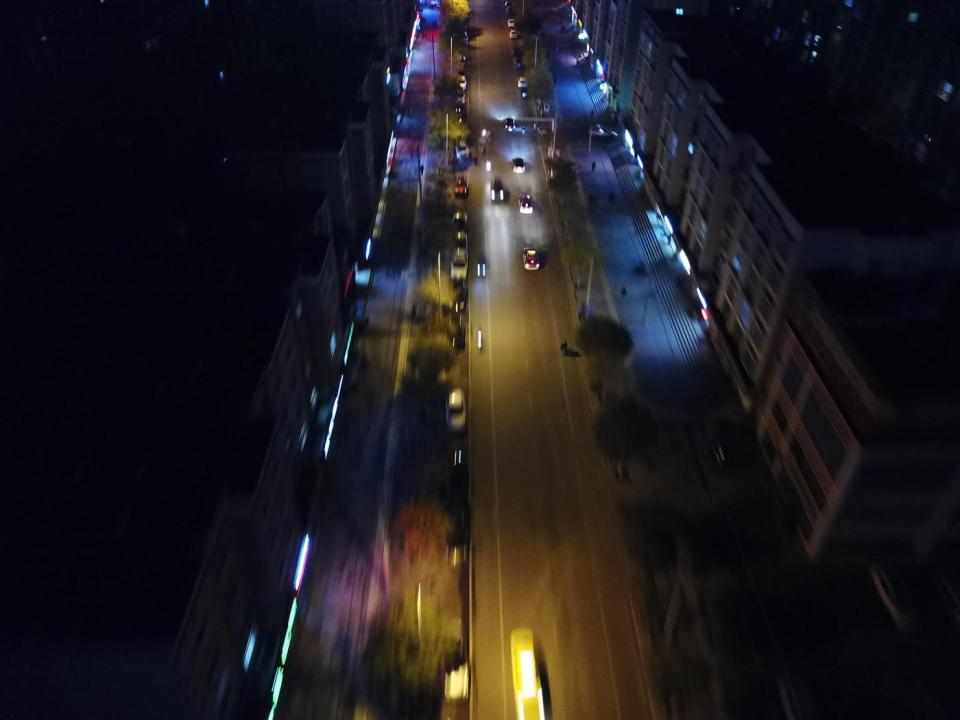bus: (510, 628, 545, 720), (451, 210, 468, 247)
car: (870, 561, 920, 631), (438, 619, 468, 704), (776, 668, 818, 720), (439, 501, 469, 569), (711, 425, 756, 470), (437, 437, 468, 499), (932, 555, 960, 621), (445, 387, 468, 436), (443, 315, 466, 350), (445, 279, 467, 313), (450, 248, 468, 279), (589, 123, 617, 138), (523, 246, 539, 270), (490, 178, 506, 202), (520, 192, 532, 215), (456, 175, 468, 197), (477, 252, 486, 276), (512, 157, 525, 173), (456, 30, 468, 46), (504, 117, 516, 132), (453, 103, 466, 116), (454, 118, 466, 132), (457, 144, 468, 158), (455, 50, 466, 63), (455, 76, 466, 88), (455, 90, 465, 103), (454, 64, 466, 74), (518, 76, 528, 87), (512, 46, 521, 56), (514, 56, 522, 67), (460, 16, 468, 27), (431, 0, 443, 7), (506, 7, 514, 16), (522, 89, 530, 98), (508, 20, 516, 28), (510, 29, 517, 38), (505, 1, 512, 7)
